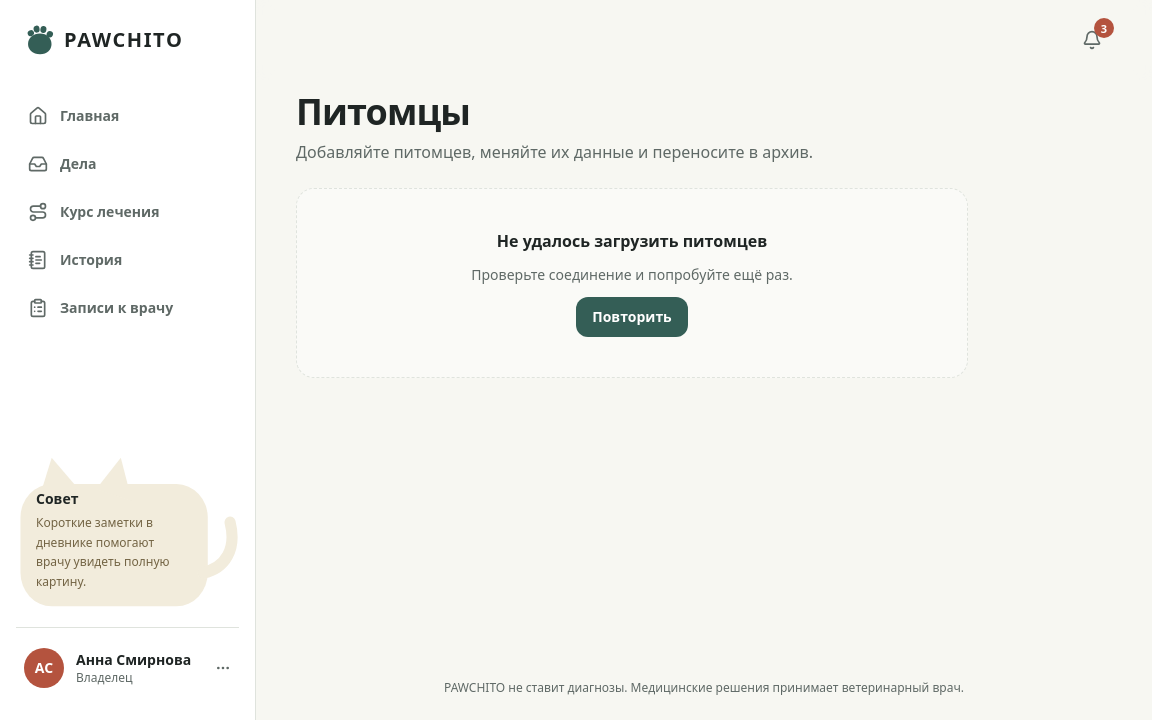
PetsPage: список › ошибка загрузки и «Повторить»
The image size is (1152, 720).
Expected: the heading "Не удалось загрузить питомцев" is shown, [497,229,767,253]
Click the button "Повторить": (632, 317) [576,297,688,337]
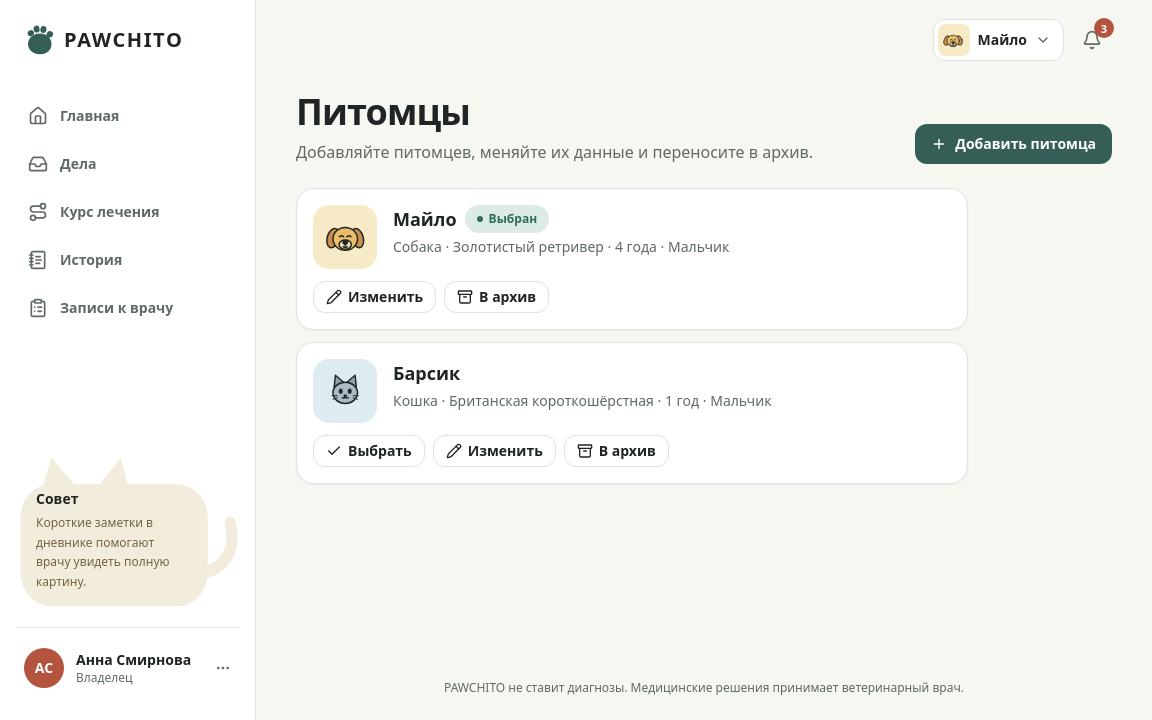
Now the element "Майло" is shown, box [296,188,968,330]
